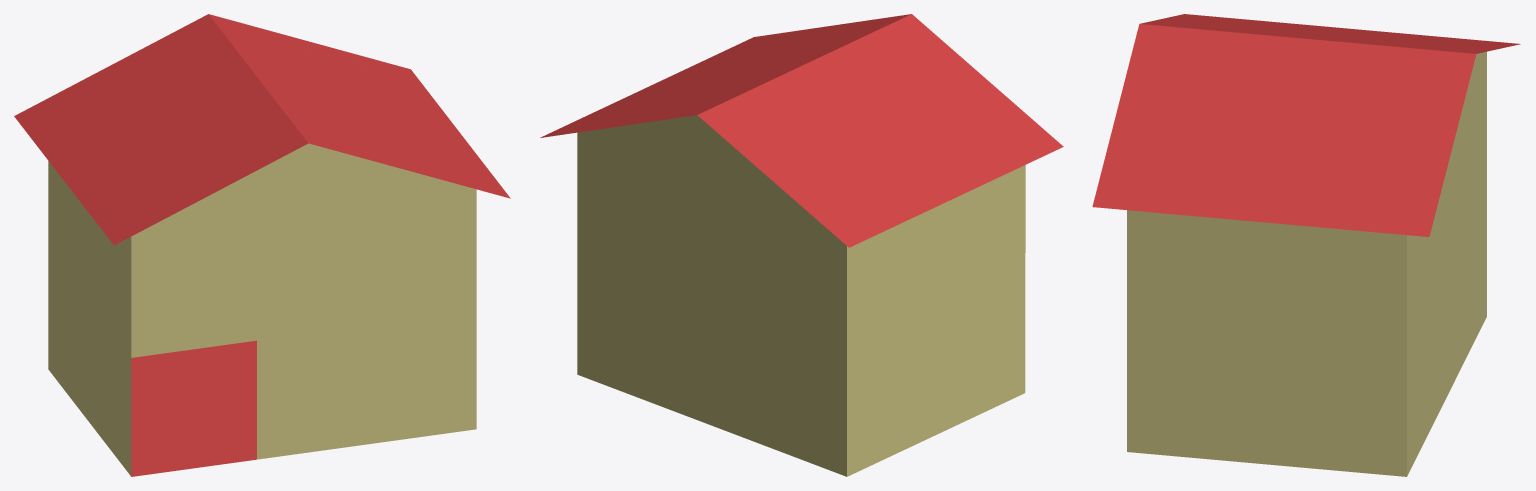
The picture shows the model from 3 angles, left to right: view 1: azimuth 30°, elevation 25°; view 2: azimuth 150°, elevation 25°; view 3: azimuth 270°, elevation 25°; orthographic projection. The views are drawn at different scales.
Visible parts, largest first — view 1: group_5, group_3, group_6, group_4; view 2: group_5, group_3, group_4; view 3: group_5, group_3, group_4.
Boxes of the visible parts, <box> form: group_5: <box>48,143,476,476</box>; group_3: <box>48,14,476,245</box>; group_6: <box>131,340,256,476</box>; group_4: <box>14,14,510,244</box>; group_5: <box>577,115,1025,476</box>; group_3: <box>578,14,1063,221</box>; group_4: <box>540,14,1062,247</box>; group_5: <box>1127,51,1486,476</box>; group_3: <box>1093,14,1486,236</box>; group_4: <box>1092,14,1520,236</box>.
Bounding box in the file's own units: 17.45 × 14.75 × 13.02.
